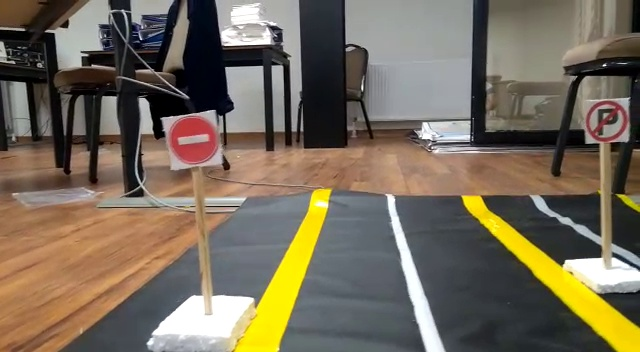girisi_olmayan_yol: (163, 114, 223, 167)
park_yapilmaz: (584, 100, 630, 142)
